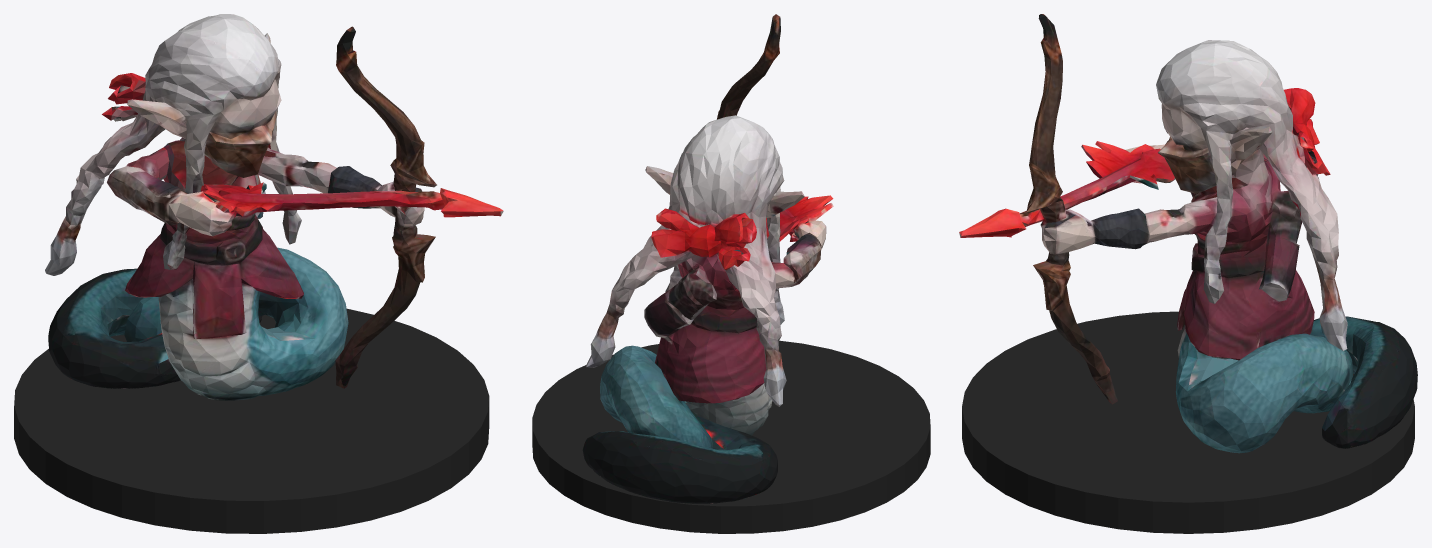
File: dok-blood-stalker.glb
The picture shows the model from 3 angles, left to right: view 1: azimuth 30°, elevation 25°; view 2: azimuth 150°, elevation 25°; view 3: azimuth 270°, elevation 25°; orthographic projection. The views are drawn at different scales.
Visible parts, largest first — view 1: figure, base; view 2: figure, base; view 3: figure, base.
Part boxes in pixels (left/top/right/bottom): figure: left=45, top=14, right=503, bottom=400; base: left=14, top=308, right=489, bottom=533; figure: left=582, top=14, right=833, bottom=503; base: left=532, top=340, right=930, bottom=533; figure: left=959, top=14, right=1417, bottom=453; base: left=962, top=311, right=1414, bottom=533.
Size of the model in its own units: 1.57 by 1.67 by 1.59.
Materials: 2 (1 with a texture image).
